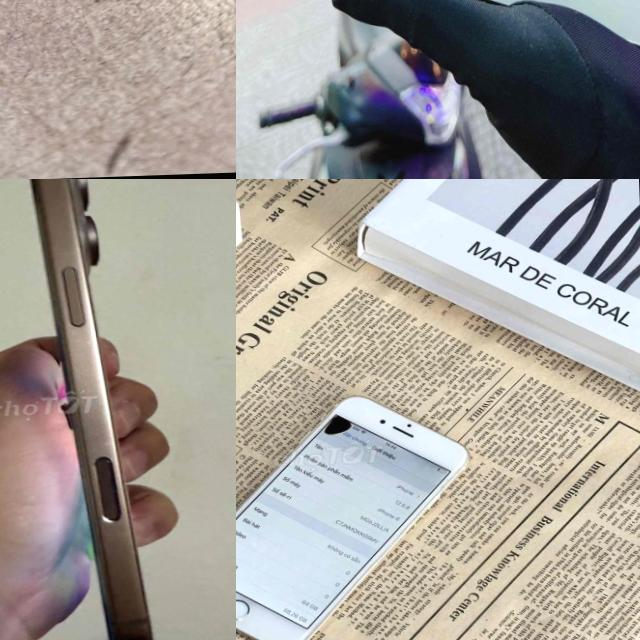gen_12_13: (271, 0, 640, 73)
gen_16: (0, 179, 182, 640)
gen_6: (236, 389, 477, 640)
screen_defect: (324, 410, 374, 442)
